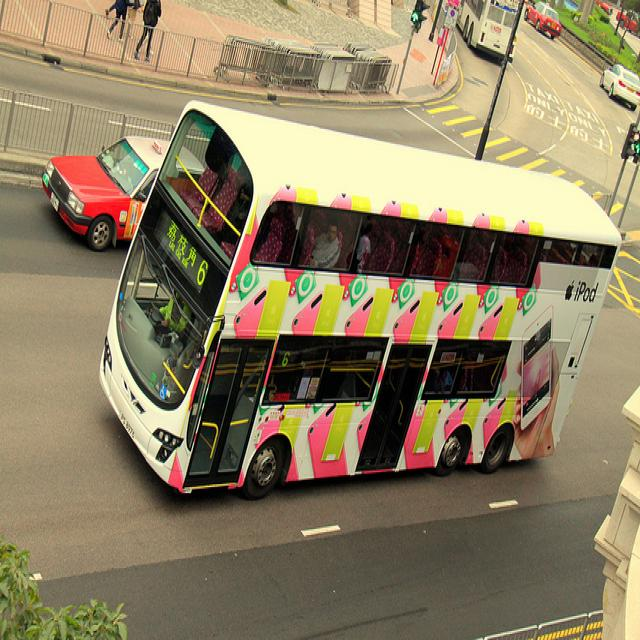Vehicle: (97, 99, 624, 499), (39, 134, 171, 250), (433, 4, 528, 70), (599, 64, 640, 107), (524, 0, 561, 41)
